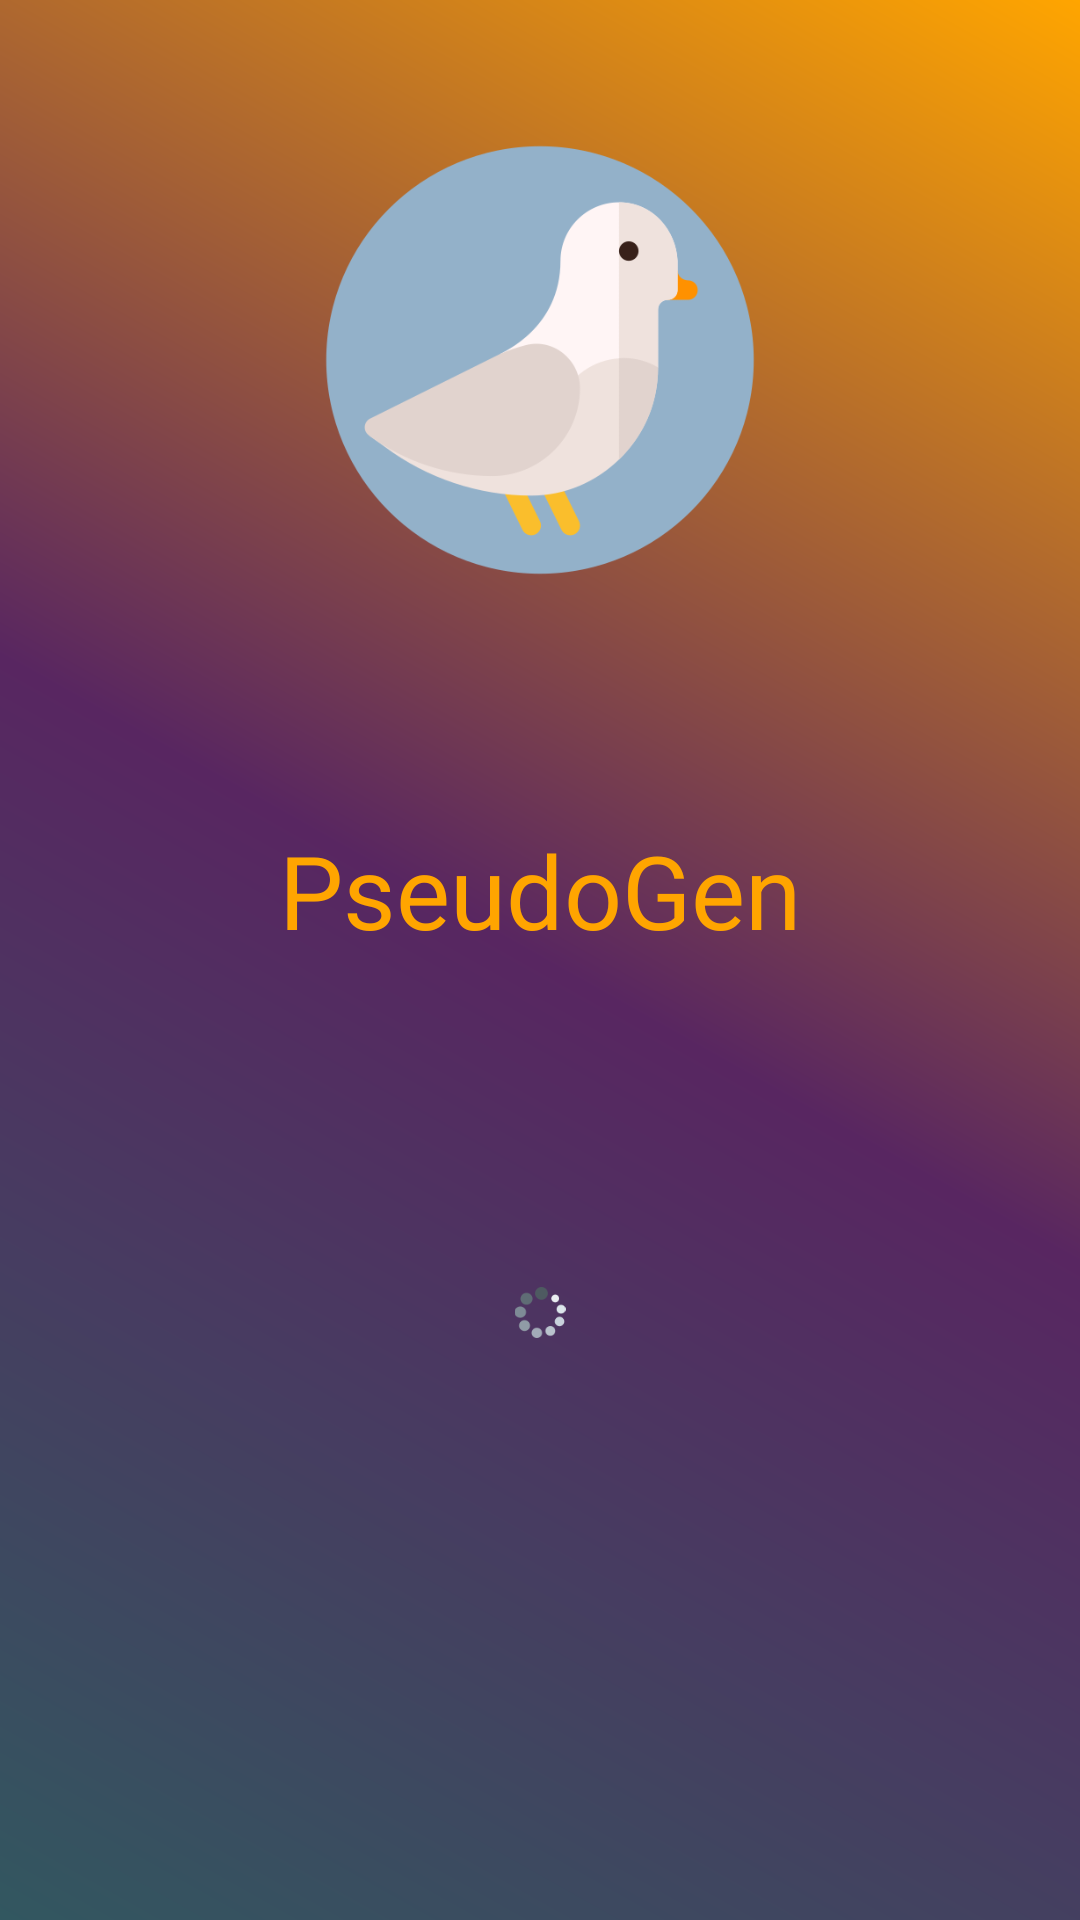

Screen size 1080×1920. Icon name, then its center in pixels as [x,y]:
loading: [540,1312]
